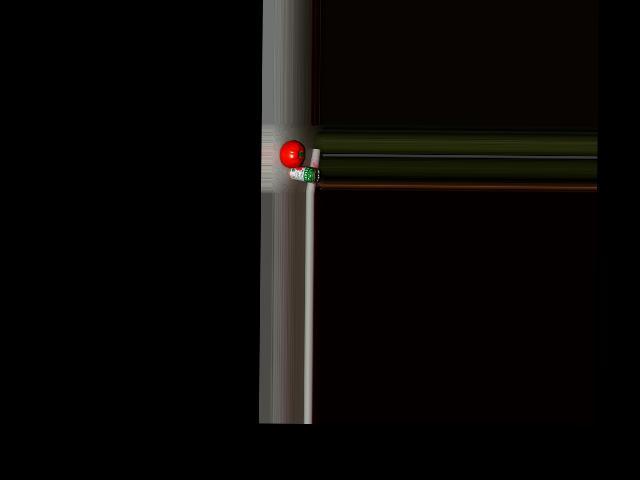tomato: (279, 140, 303, 167)
